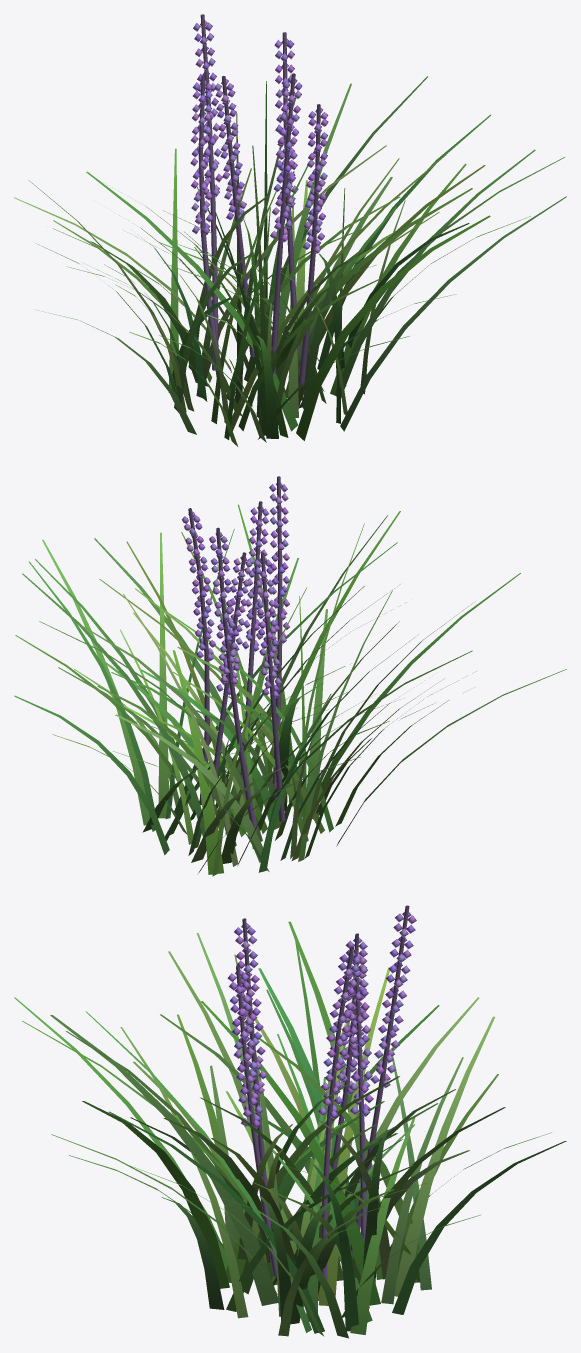
The model's file is liriope.glb.
The picture shows the model from 3 angles, top to bottom: view 1: azimuth 30°, elevation 25°; view 2: azimuth 150°, elevation 25°; view 3: azimuth 270°, elevation 25°; orthographic projection. The views are drawn at different scales.
Visible parts, largest first — view 1: grass, petal, stem; view 2: grass, petal, stem; view 3: grass, petal, stem.
Part boxes in pixels (box(x1,y1,x2,y2)): grass: box(14, 76, 566, 446); petal: box(190, 20, 328, 253); stem: box(198, 14, 320, 386); grass: box(14, 504, 566, 876); petal: box(181, 482, 289, 698); stem: box(188, 476, 285, 830); grass: box(14, 921, 566, 1338); petal: box(227, 911, 416, 1128); stem: box(236, 905, 409, 1284).
Bounding box in the file's own units: 1.07 × 0.6834 × 0.9009.
